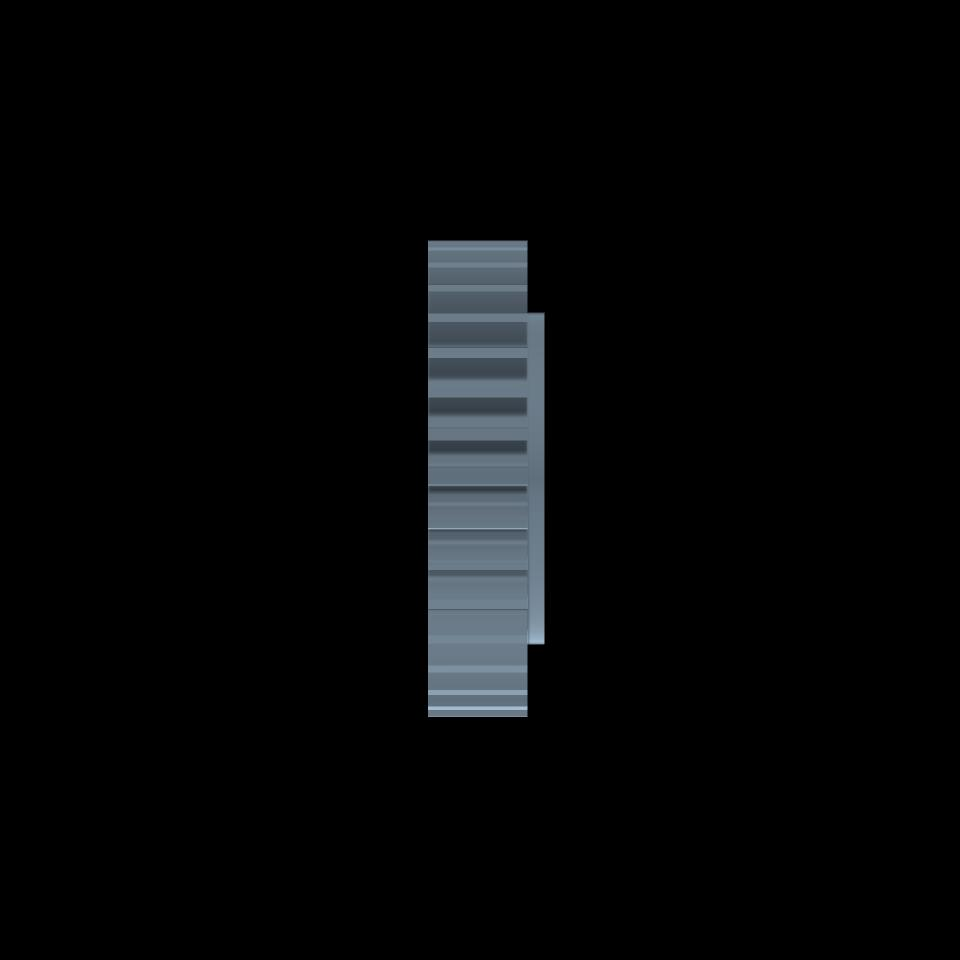Straight: (428, 241, 527, 716)
